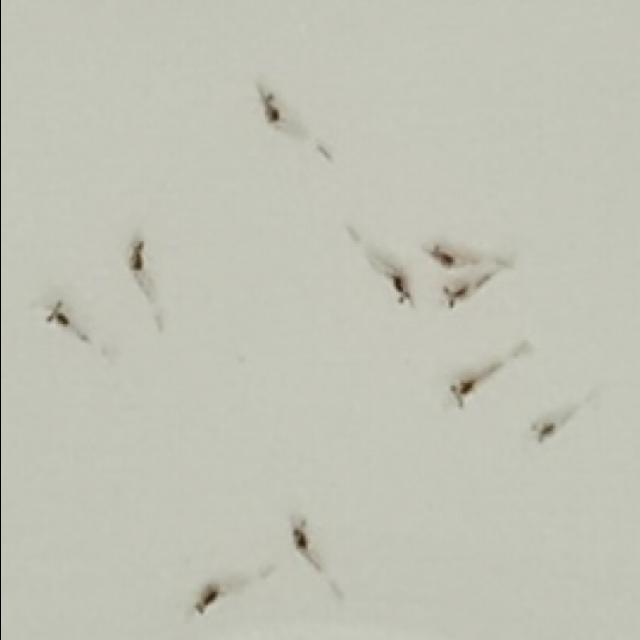shrimp-seed: (444, 370, 486, 416), (33, 294, 76, 338), (280, 514, 316, 564), (252, 81, 284, 131), (379, 269, 415, 311), (123, 234, 155, 280), (186, 580, 218, 621), (436, 282, 470, 314), (524, 418, 558, 449), (424, 241, 456, 272)
